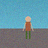person: (23, 16, 33, 39)
